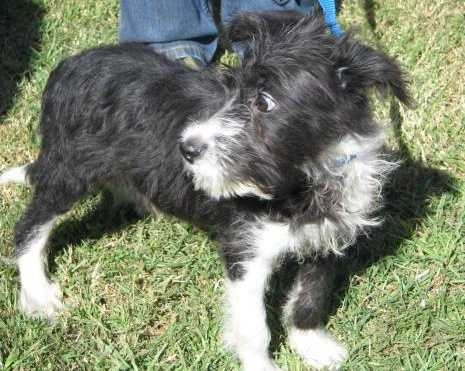dog: (40, 17, 379, 361)
